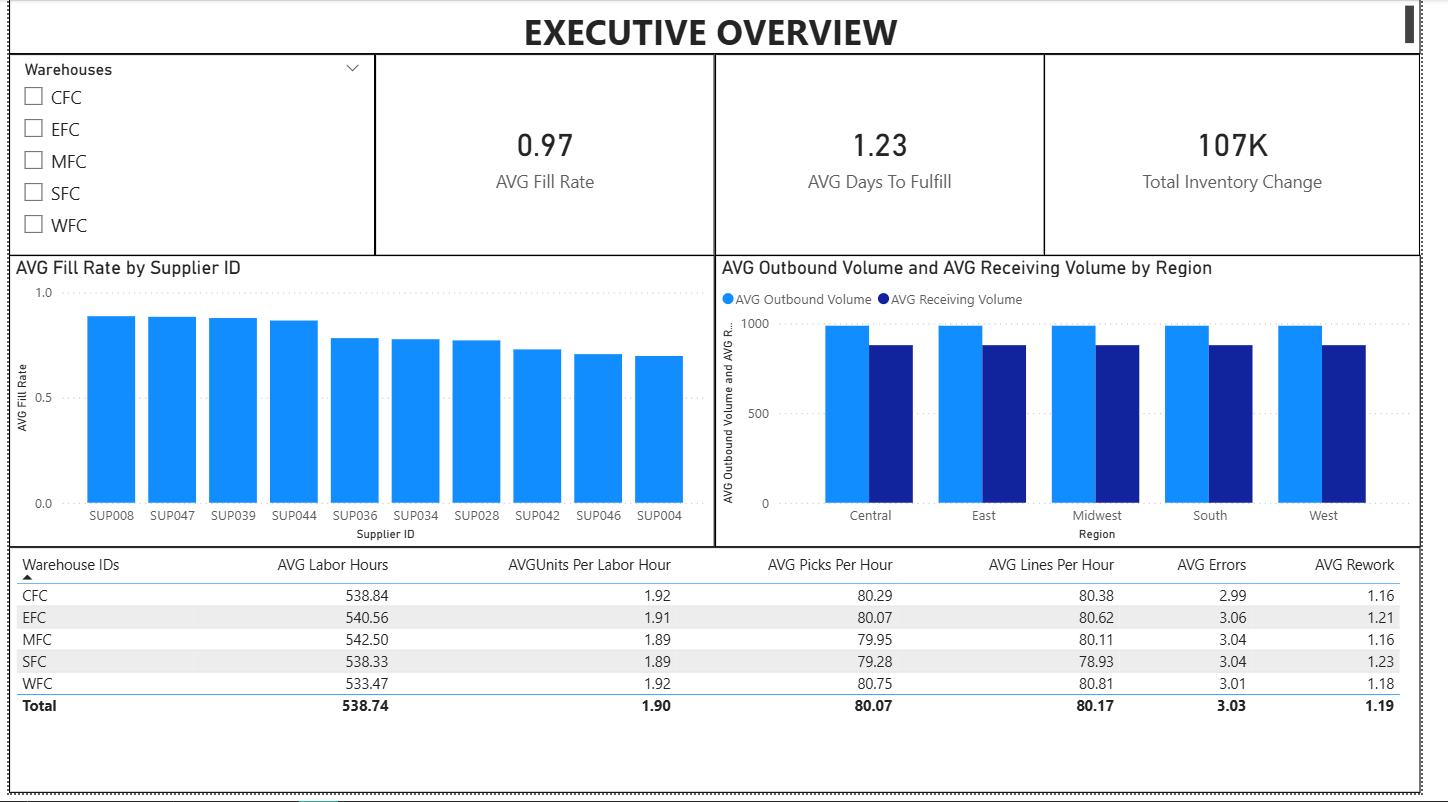

The page's visual inventory and layout, read from the dashboard file:
{"tool":"powerbi","page":{"name":"Executive Overview","canvas":[1280,720],"ordinal":0},"visuals":[{"type":"slicer","fields":{"Values":["Dim_Warehouse.warehouse_id"]},"box":[0,49.6,331.7,182.9],"z":0},{"type":"card","fields":{"Values":["Avg(supplier_clean.fill_rate)"]},"box":[331.7,49.6,308.3,182.9],"z":1000},{"type":"card","fields":{"Values":["Avg(orders_clean.days_to_fulfill)"]},"box":[640,49.6,298.6,182.9],"z":2000},{"type":"card","fields":{"Values":["Sum(inventory_clean.inventory_change)"]},"box":[938.6,49.6,341.4,182.9],"z":3000},{"type":"tableEx","fields":{"Values":["warehouse_clean.warehouse_id","Avg(warehouse_clean.labor_hours)","Avg(warehouse_clean.units_per_labor_hour)","Avg(warehouse_clean.picks_per_hour)","Avg(warehouse_clean.lines_per_hour)","Avg(warehouse_clean.errors)","Avg(warehouse_clean.rework)"]},"box":[0,497.2,1280,223],"z":4000},{"type":"clusteredColumnChart","fields":{"Category":["orders_clean.region"],"Y":["Avg(warehouse_clean.outbound_volume)","Avg(warehouse_clean.receiving_volume)"]},"box":[640,232.6,640,264.7],"z":5000},{"type":"clusteredColumnChart","fields":{"Category":["supplier_clean.supplier_id"],"Y":["Avg(supplier_clean.fill_rate)"]},"box":[0,232.6,640,264.7],"z":6000},{"type":"textbox","box":[0,0,1280,49.6],"z":7000}]}

Visuals, with their boxes in screenshot pixels (x1, y1, x2, y2), scaled from the page's 1280x720 canvas onto the 1448x802 screenshot:
slicer - Dim_Warehouse.warehouse_id: <box>0,55,375,259</box>
card - Avg(supplier_clean.fill_rate): <box>375,55,724,259</box>
card - Avg(orders_clean.days_to_fulfill): <box>724,55,1062,259</box>
card - Sum(inventory_clean.inventory_change): <box>1062,55,1447,259</box>
tableEx - warehouse_clean.warehouse_id x Avg(warehouse_clean.labor_hours): <box>0,554,1447,801</box>
clusteredColumnChart - orders_clean.region x Avg(warehouse_clean.outbound_volume): <box>724,259,1447,554</box>
clusteredColumnChart - supplier_clean.supplier_id x Avg(supplier_clean.fill_rate): <box>0,259,724,554</box>
textbox: <box>0,0,1447,55</box>
